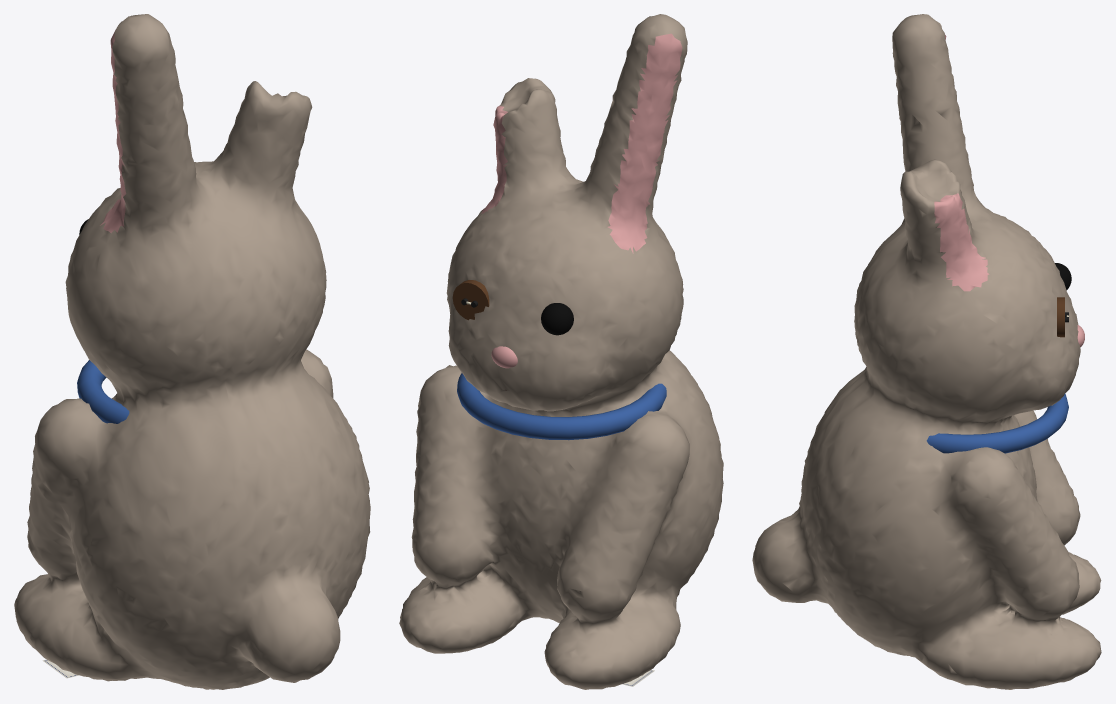
Rendered from toy_rabbit.fbx.
The picture shows the model from 3 angles, left to right: view 1: azimuth 30°, elevation 25°; view 2: azimuth 150°, elevation 25°; view 3: azimuth 270°, elevation 25°; orthographic projection. The views are drawn at different scales.
Parts seen in each view (by area): view 1: toy_rabbit; view 2: toy_rabbit; view 3: toy_rabbit.
Part boxes in pixels (x1,y1,x2,y2): toy_rabbit: (14, 14, 370, 689); toy_rabbit: (399, 14, 723, 689); toy_rabbit: (752, 14, 1101, 689).
Bounding box in the file's own units: 0.1082 × 0.2462 × 0.1303.
